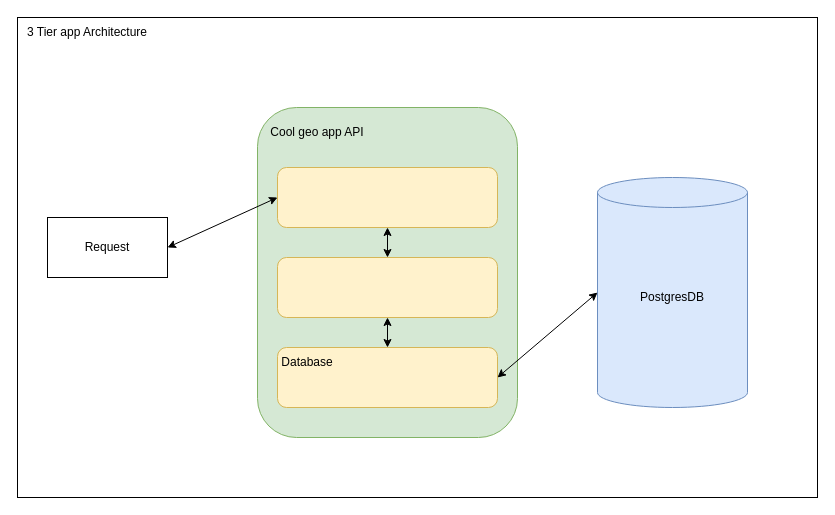
The diagram is 835 pixels wide and 515 high, and some of its shapes have lost their labels. The box of each missing label's shape, as (x1, y1, x2, y2) in pixels:
Routers: (276, 166, 498, 228)
Services: (276, 256, 498, 318)
